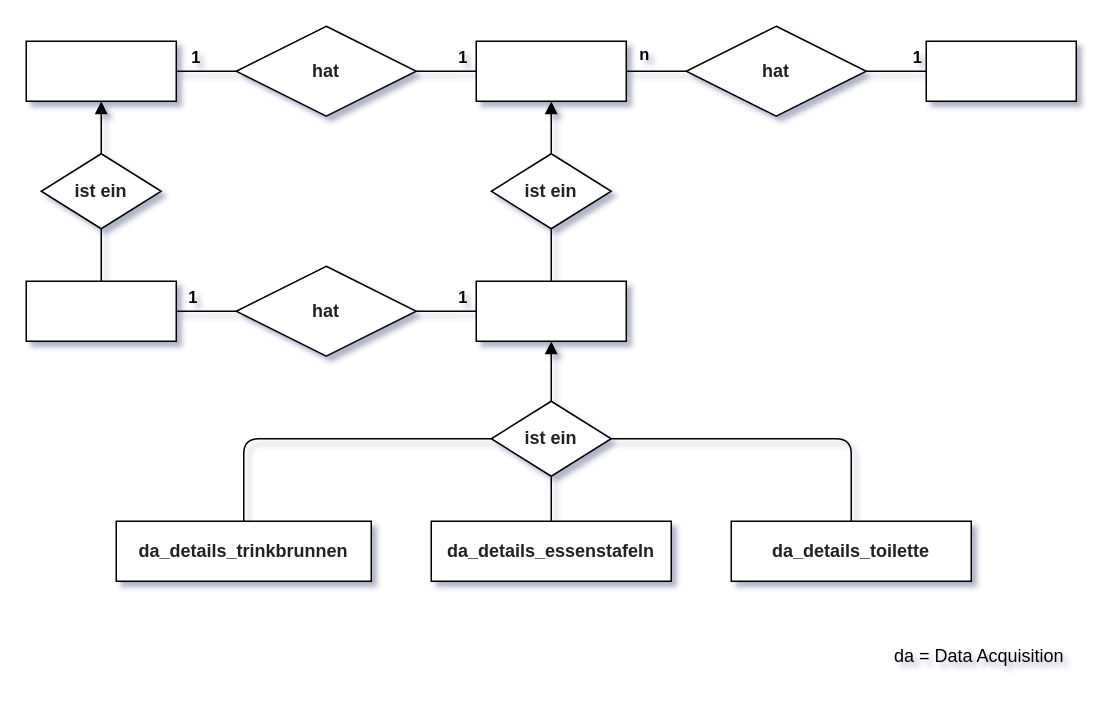
This 1112x707 diagram has some shape labels left out. Here are the shapes that lost their labels. From the top down, the centre of each, then its label:
At (100,70): "standorte".
At (550,70): "details".
At (1000,70): "quellen".
At (100,310): "da_standorte".
At (550,310): "da_details".
